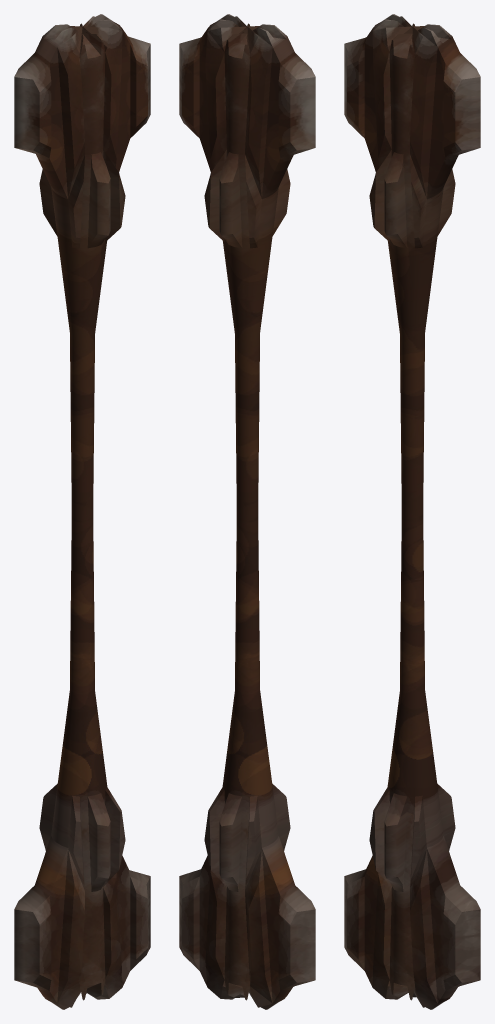
Rendered from Kesh_Staff.fbx.
3 renders of one model, left to right at view 1: azimuth 30°, elevation 25°; view 2: azimuth 150°, elevation 25°; view 3: azimuth 330°, elevation 25°, orthographic.
Parts seen in each view (by area): view 1: polySurface1; view 2: polySurface1; view 3: polySurface1.
Part boxes in pixels (x1,y1,x2,y2): polySurface1: [14, 14, 150, 1009]; polySurface1: [179, 14, 315, 1009]; polySurface1: [344, 14, 480, 1009].
Bounding box in the file's own units: 1.89 × 12.91 × 1.25.
